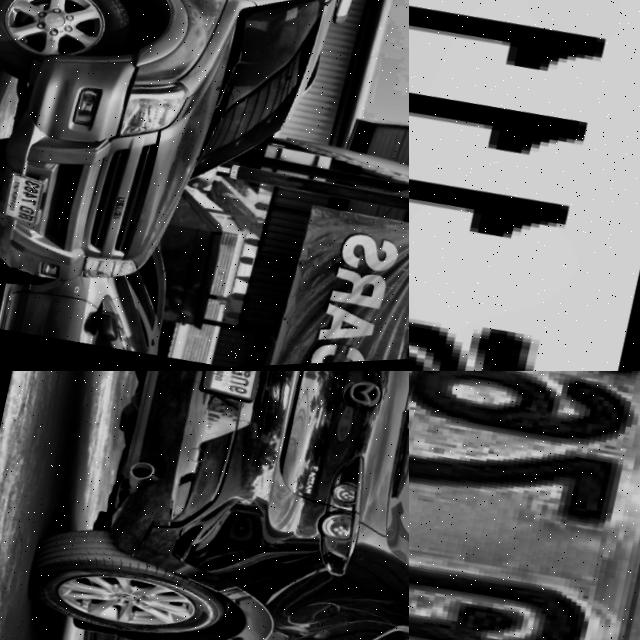license-plate: (409, 0, 640, 371), (409, 371, 640, 640), (0, 165, 51, 228), (196, 371, 277, 409)
